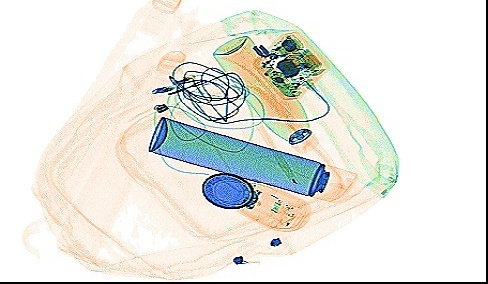pressure: (145, 115, 355, 200), (211, 33, 318, 154)
